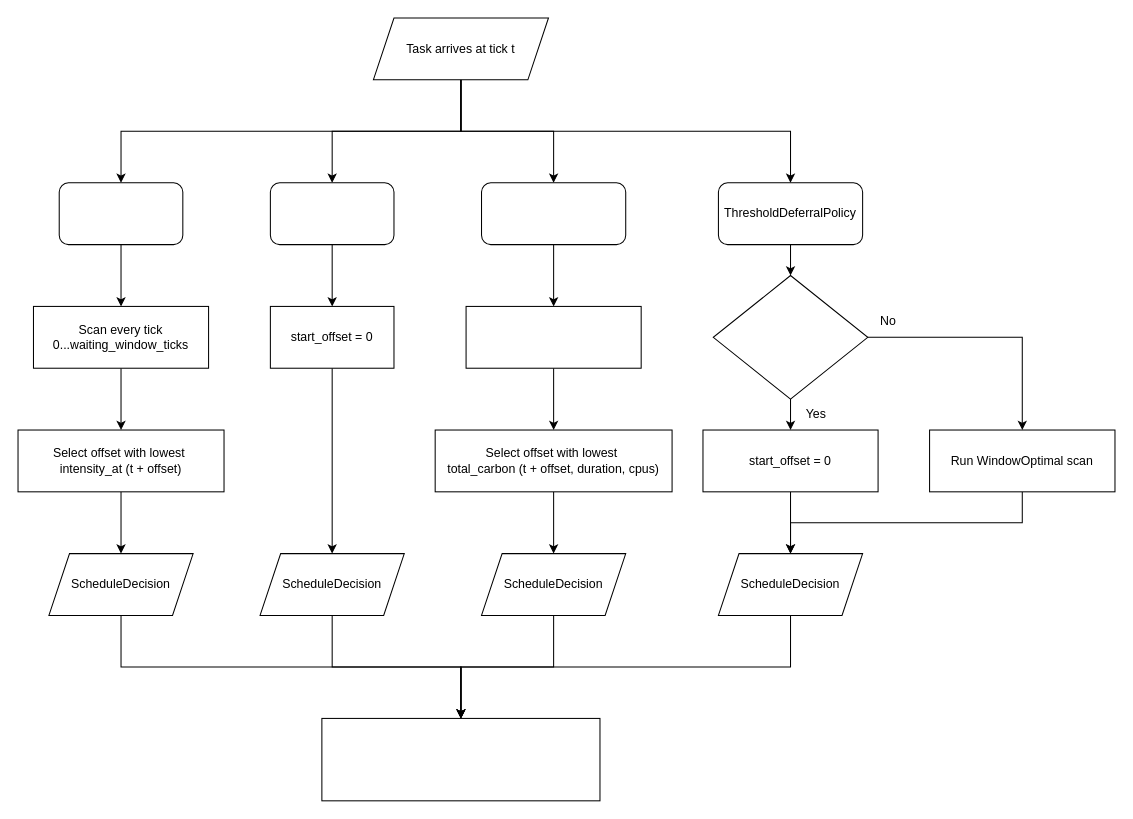
Some shapes in this 1133 by 819 pixel diagram are drawn without their labels. The centre of each missing label's shape, as x and y in pixels:
"BaselinePolicy" belongs at [331,213].
"intensity_at(t) ≤ threshold_tick?" belongs at [790,336].
"Lowest Intensity Policy" belongs at [120,213].
"Scan hourly aligned offsets 0...waiting_window_ticks" belongs at [553,336].
"Scheduler queues task for tick t + start_offset" belongs at [460,759].
"WindowOptimalPolicy" belongs at [553,213].
